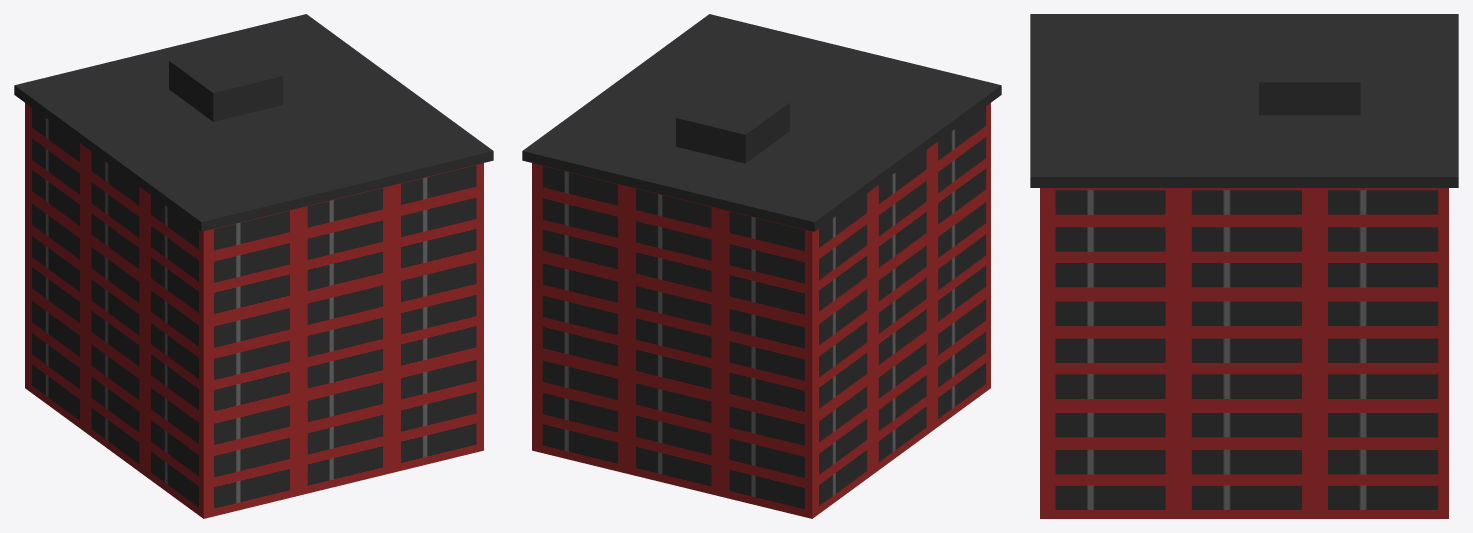
File: Building 02.FBX
3 views of the same model, side by side, from view 1: azimuth 30°, elevation 25°; view 2: azimuth 150°, elevation 25°; view 3: azimuth 270°, elevation 25° (orthographic). The views are drawn at different scales.
Visible parts, largest first — view 1: Box001; view 2: Box001; view 3: Box001.
Boxes of the visible parts, left/top/right/bottom form: Box001: left=14, top=14, right=493, bottom=518; Box001: left=522, top=14, right=1001, bottom=518; Box001: left=1030, top=14, right=1458, bottom=518.
Bounding box in the file's own units: 46.38 × 50.09 × 51.46.
